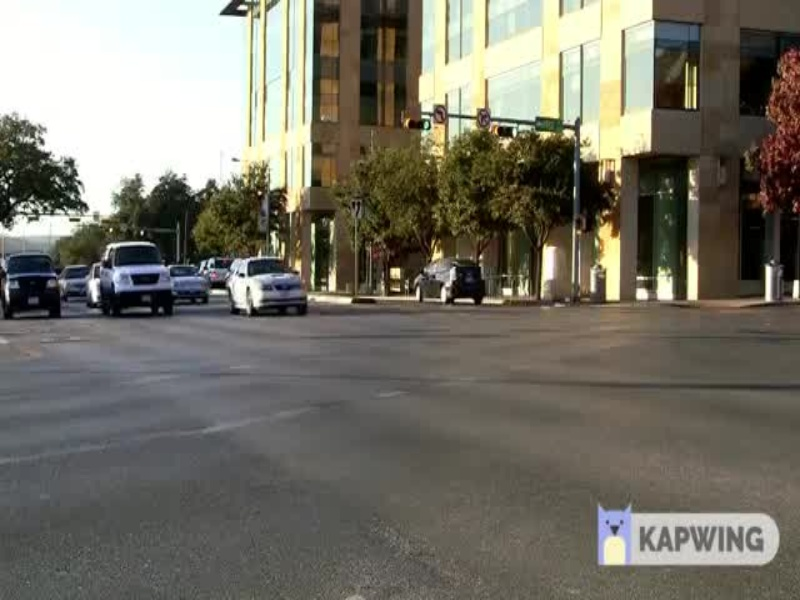car: (89, 236, 173, 319), (222, 257, 311, 318), (403, 250, 495, 308), (1, 258, 66, 317)
